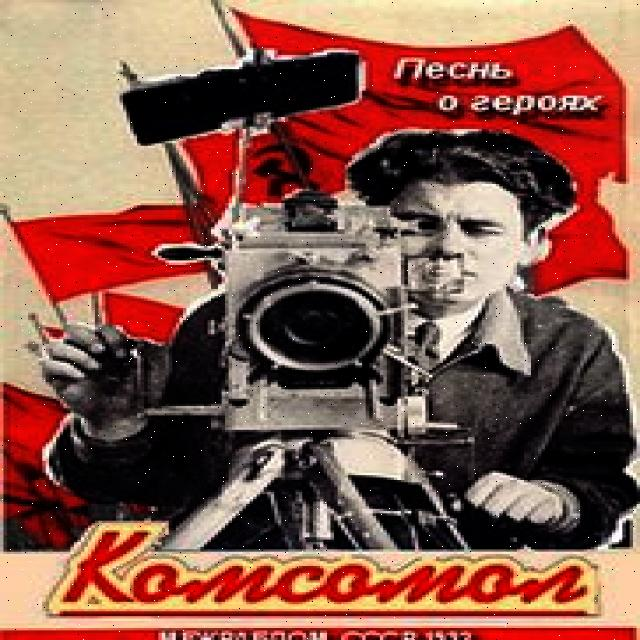movie-judul: (64, 520, 608, 623)
picture: (38, 47, 640, 506)
